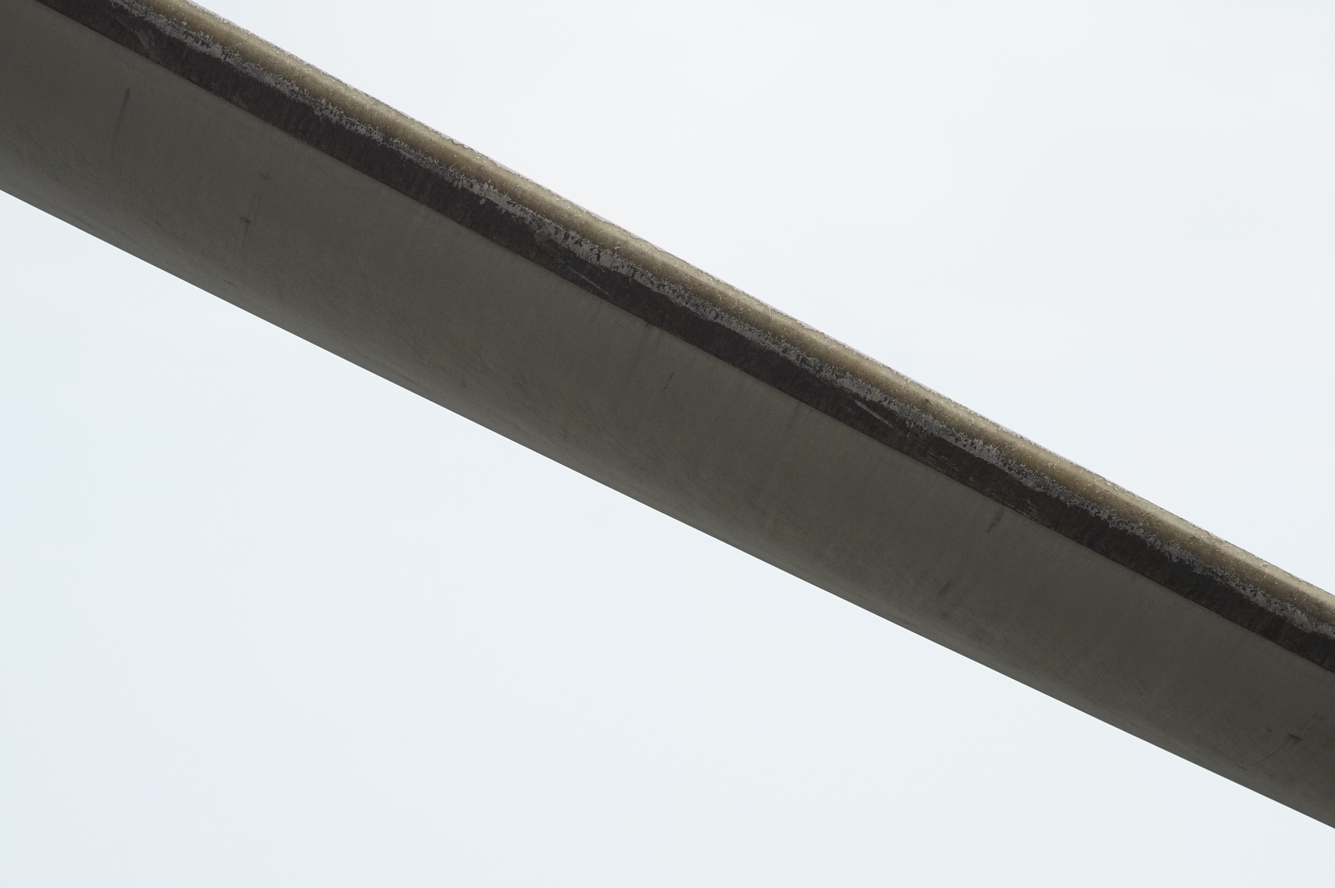Damage: (118, 0, 1335, 633)
